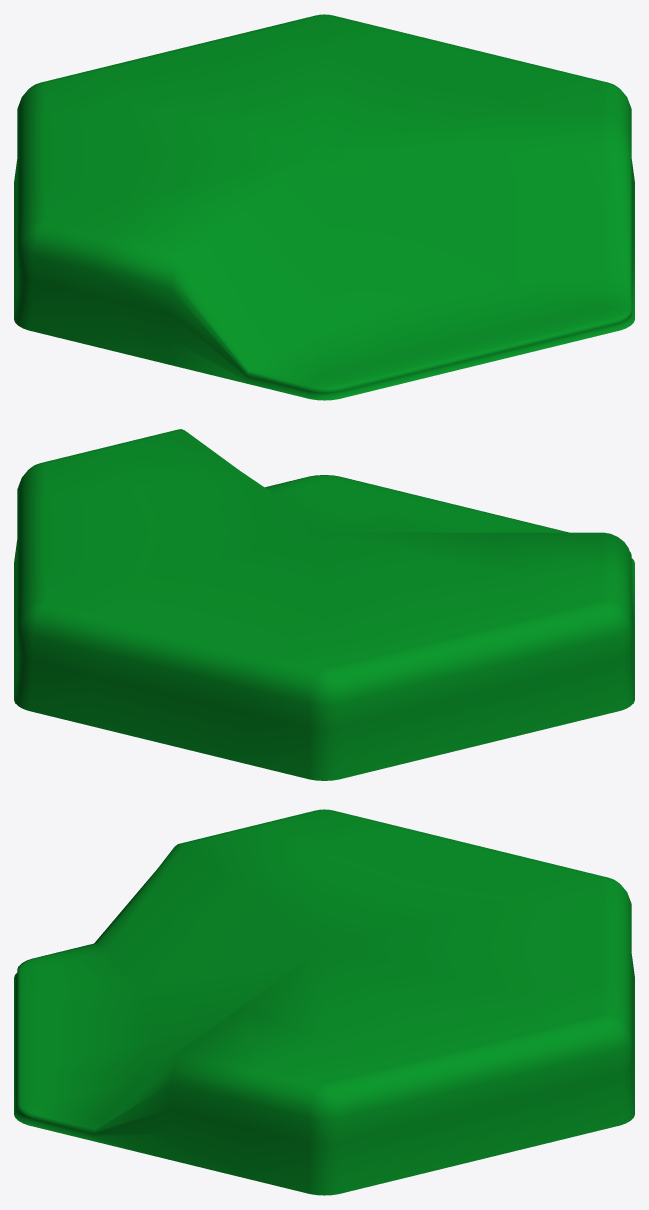
Rendered from C_A_esquina.fbx.
The picture shows the model from 3 angles, top to bottom: view 1: azimuth 30°, elevation 25°; view 2: azimuth 150°, elevation 25°; view 3: azimuth 270°, elevation 25°; orthographic projection.
Visible parts, largest first — view 1: agua_esquina; view 2: agua_esquina; view 3: agua_esquina.
Boxes of the visible parts, x1,y1,x2,y2 form: agua_esquina: (14, 14, 634, 400); agua_esquina: (14, 429, 634, 780); agua_esquina: (14, 809, 634, 1195).
Size of the model in its own units: 207 by 31.94 by 182.
